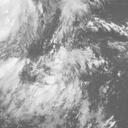cyclone: (28, 40, 88, 99)
